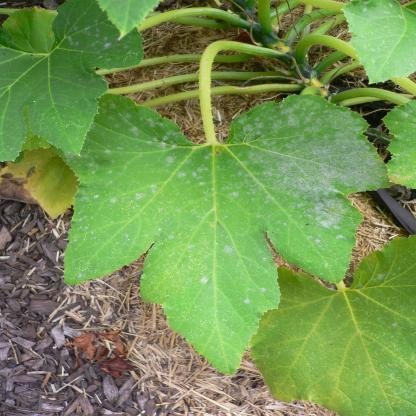Squash Powdery mildew leaf: (54, 88, 393, 372)
